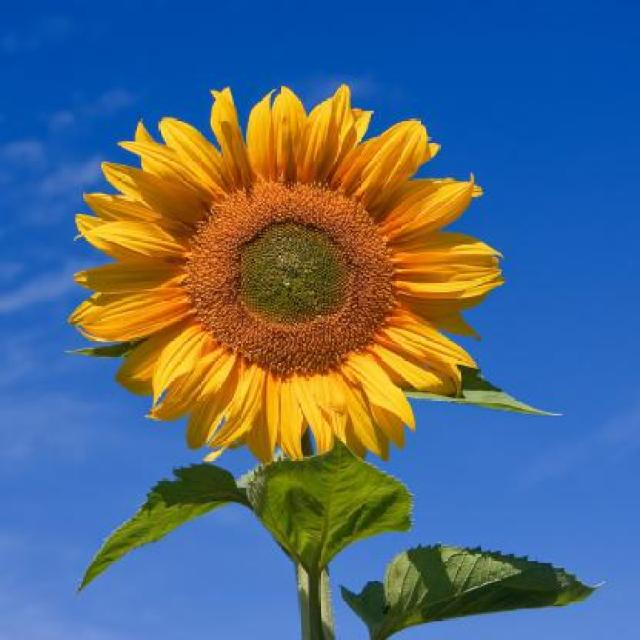sunflower: (40, 66, 508, 492)
